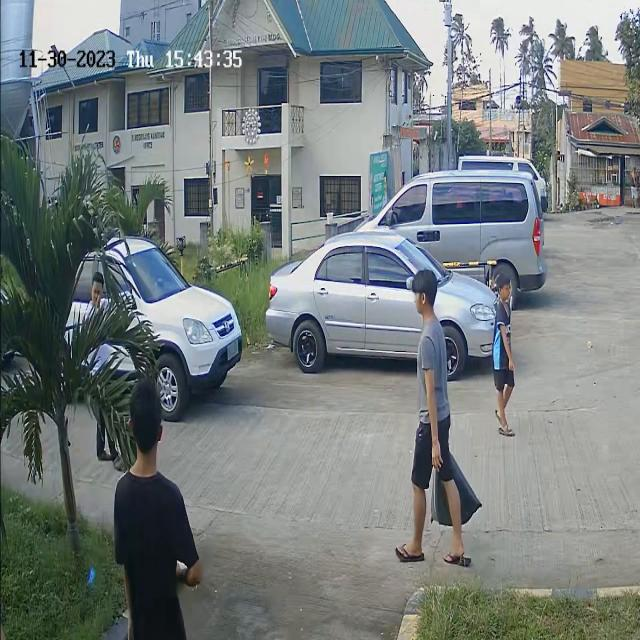person: (416, 277, 454, 398), (487, 273, 514, 351), (86, 270, 109, 327)
